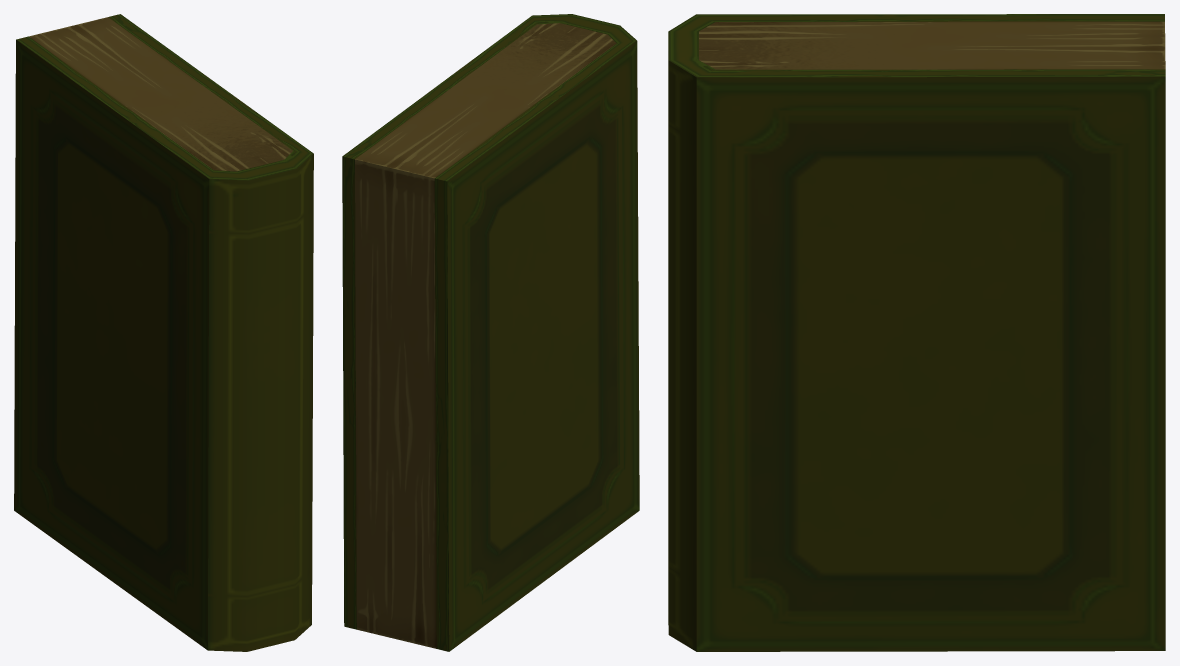
The model's file is Book_Simplified_Single.gltf.
The picture shows the model from 3 angles, left to right: view 1: azimuth 30°, elevation 25°; view 2: azimuth 150°, elevation 25°; view 3: azimuth 270°, elevation 25°; orthographic projection. The views are drawn at different scales.
Visible parts, largest first — view 1: Book_Simplified_Single; view 2: Book_Simplified_Single; view 3: Book_Simplified_Single.
Boxes of the visible parts, x1,y1,x2,y2 form: Book_Simplified_Single: (14,14,313,651); Book_Simplified_Single: (342,14,639,651); Book_Simplified_Single: (668,14,1165,651).
Size of the model in its own units: 0.0646 by 0.2683 by 0.21.
Materials: 1 (1 with a texture image).
